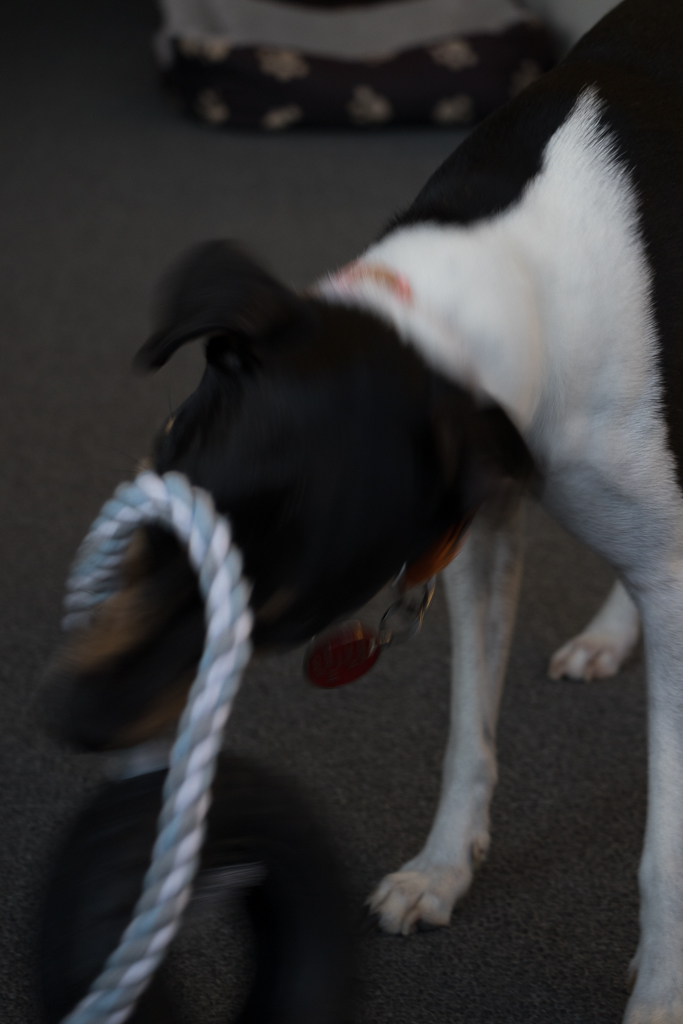Dog: (25, 0, 683, 1024)
